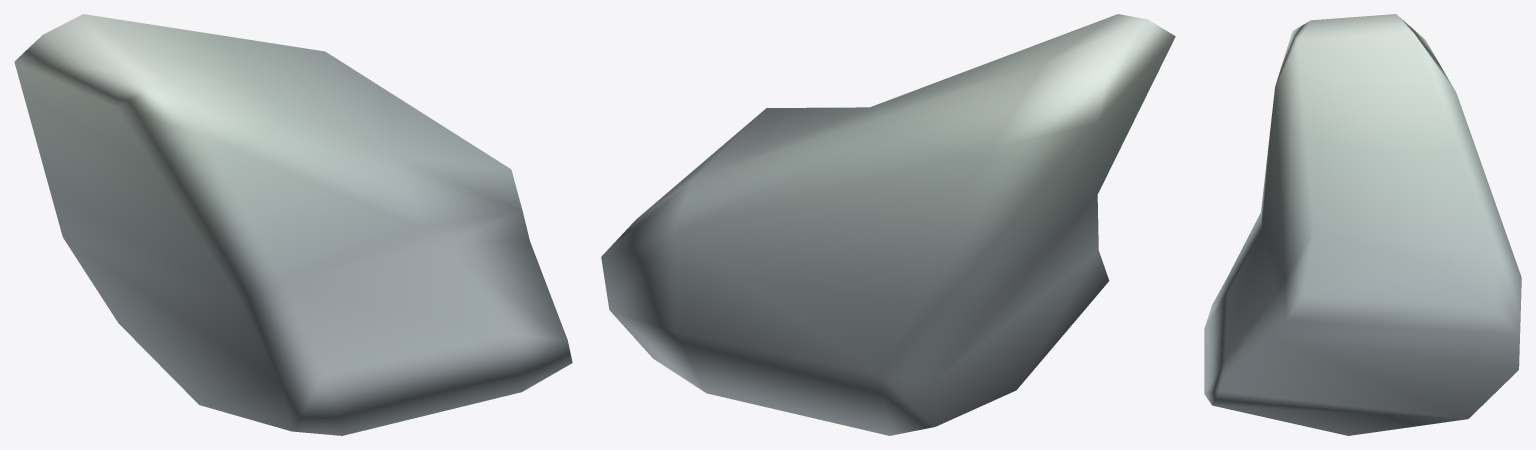
Rendered from Rock1 1.fbx.
3 renders of one model, left to right at view 1: azimuth 30°, elevation 25°; view 2: azimuth 150°, elevation 25°; view 3: azimuth 270°, elevation 25°, orthographic. The views are drawn at different scales.
Parts seen in each view (by area): view 1: Rock1; view 2: Rock1; view 3: Rock1.
Boxes of the visible parts, x1,y1,x2,y2 form: Rock1: (14, 14, 572, 435); Rock1: (601, 14, 1175, 435); Rock1: (1204, 14, 1521, 435).
Bounding box in the file's own units: 1.53 × 1.35 × 1.33.
1 material, 1 textured.
